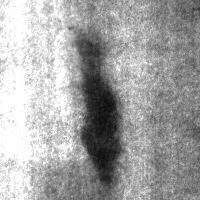patches: (0, 0, 97, 126), (73, 74, 124, 186), (39, 162, 111, 200), (66, 24, 103, 82)
